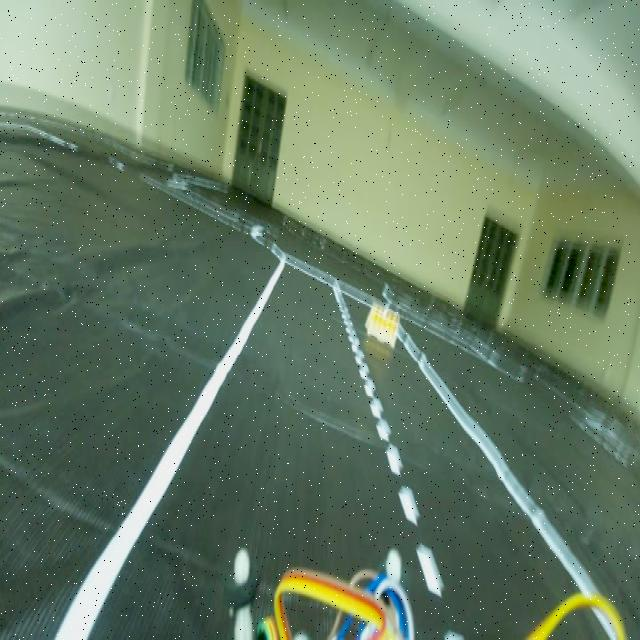roadblock: (358, 291, 406, 354)
